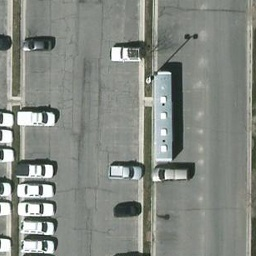car: (16, 158, 55, 179), (16, 110, 55, 127), (17, 181, 56, 197), (17, 200, 56, 216), (110, 45, 141, 65), (108, 161, 142, 179), (24, 33, 54, 53), (152, 166, 189, 182), (19, 219, 54, 234), (21, 238, 56, 253)
